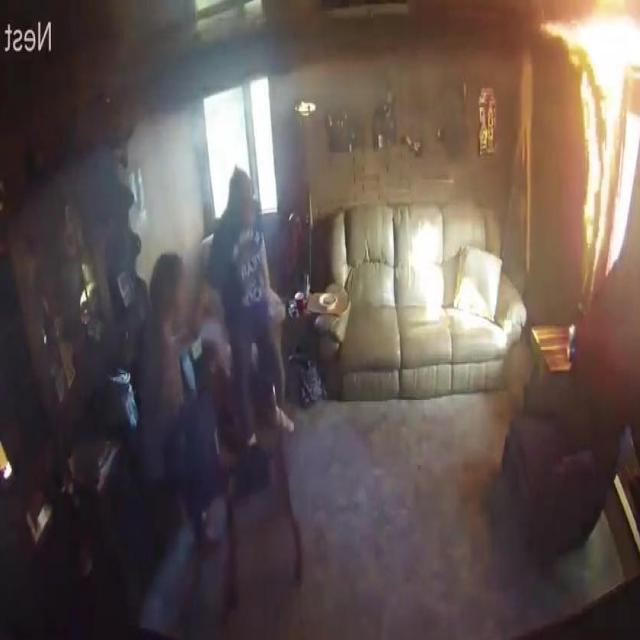smoke: (539, 8, 638, 278)
